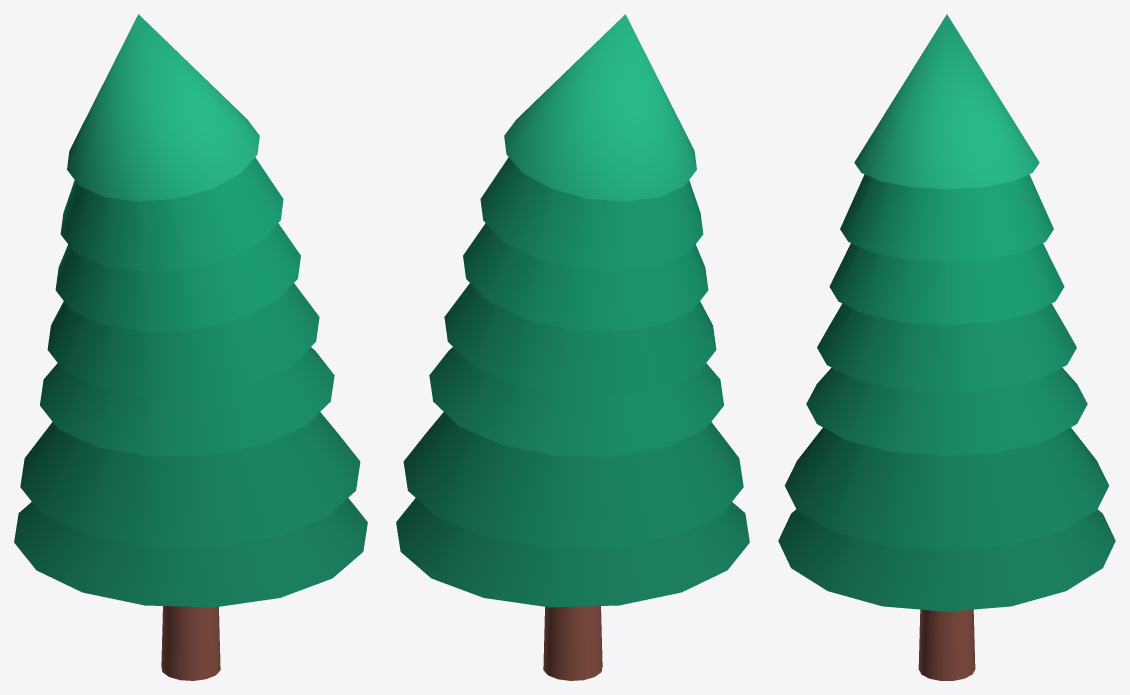
Rendered from Spruce_Cold_Turquoise_4.fbx.
3 renders of one model, left to right at view 1: azimuth 30°, elevation 25°; view 2: azimuth 150°, elevation 25°; view 3: azimuth 270°, elevation 25°, orthographic. The views are drawn at different scales.
Parts seen in each view (by area): view 1: Cylinder.131, Cylinder.132, Cylinder.130, Cylinder.133, Cylinder.135, Cylinder.128, Cylinder.134, Cylinder.129; view 2: Cylinder.131, Cylinder.132, Cylinder.130, Cylinder.133, Cylinder.135, Cylinder.128, Cylinder.134, Cylinder.129; view 3: Cylinder.131, Cylinder.130, Cylinder.132, Cylinder.133, Cylinder.135, Cylinder.128, Cylinder.134, Cylinder.129.
Boxes of the visible parts, x1=… form: Cylinder.131: x1=20, y1=412, x2=360, y2=547; Cylinder.132: x1=67, y1=14, x2=259, y2=201; Cylinder.130: x1=14, y1=498, x2=367, y2=607; Cylinder.133: x1=40, y1=347, x2=334, y2=456; Cylinder.135: x1=47, y1=283, x2=319, y2=396; Cylinder.128: x1=60, y1=157, x2=283, y2=271; Cylinder.134: x1=55, y1=223, x2=300, y2=331; Cylinder.129: x1=161, y1=606, x2=220, y2=680; Cylinder.131: x1=403, y1=412, x2=743, y2=547; Cylinder.132: x1=504, y1=14, x2=696, y2=201; Cylinder.130: x1=396, y1=498, x2=749, y2=607; Cylinder.133: x1=429, y1=347, x2=723, y2=456; Cylinder.135: x1=444, y1=283, x2=716, y2=396; Cylinder.128: x1=480, y1=157, x2=703, y2=271; Cylinder.134: x1=463, y1=223, x2=708, y2=331; Cylinder.129: x1=543, y1=606, x2=602, y2=680; Cylinder.131: x1=784, y1=427, x2=1109, y2=550; Cylinder.130: x1=778, y1=509, x2=1115, y2=611; Cylinder.132: x1=854, y1=14, x2=1039, y2=189; Cylinder.133: x1=806, y1=367, x2=1087, y2=455; Cylinder.135: x1=817, y1=303, x2=1076, y2=392; Cylinder.128: x1=840, y1=174, x2=1053, y2=261; Cylinder.134: x1=829, y1=243, x2=1064, y2=324; Cylinder.129: x1=918, y1=609, x2=975, y2=680.
Bounding box in the file's own units: 276 × 569 × 276.
